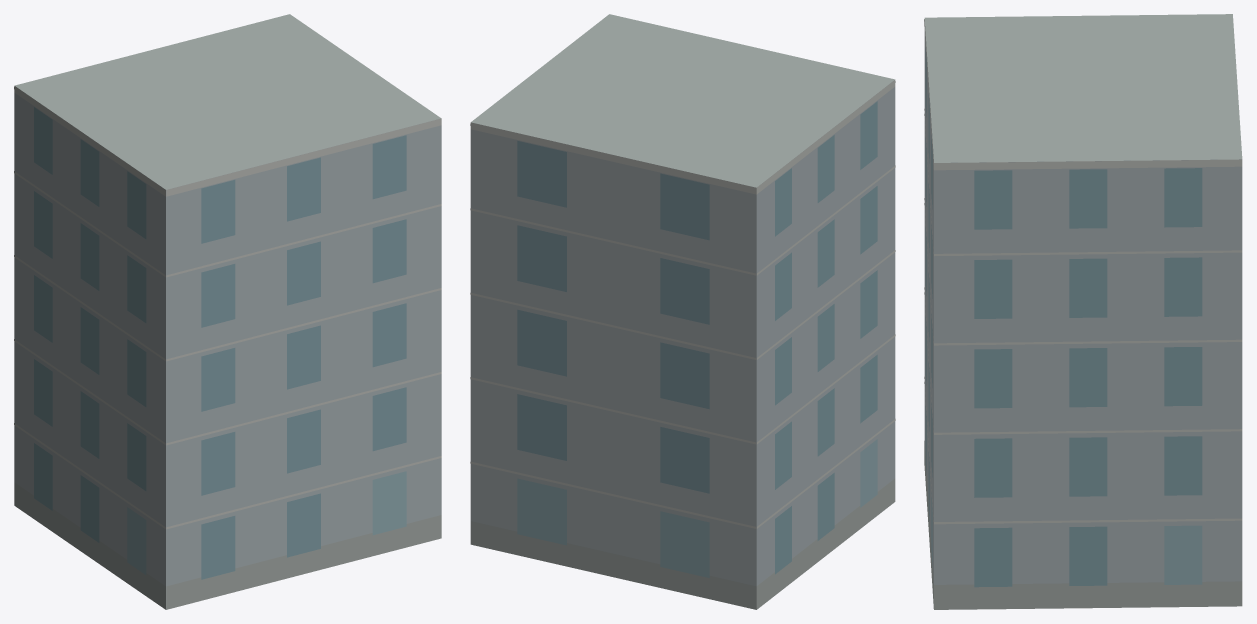
The model's file is survey-upis-32959060.glb.
3 renders of one model, left to right at view 1: azimuth 30°, elevation 25°; view 2: azimuth 150°, elevation 25°; view 3: azimuth 270°, elevation 25°, orthographic. The views are drawn at different scales.
Visible parts, largest first — view 1: survey-upis-32959060.tmp; view 2: survey-upis-32959060.tmp; view 3: survey-upis-32959060.tmp.
Boxes of the visible parts, x1,y1,x2,y2 form: survey-upis-32959060.tmp: [14, 14, 441, 609]; survey-upis-32959060.tmp: [470, 14, 895, 609]; survey-upis-32959060.tmp: [924, 14, 1242, 609].
Bounding box in the file's own units: 10.68 × 14.9 × 9.63.
